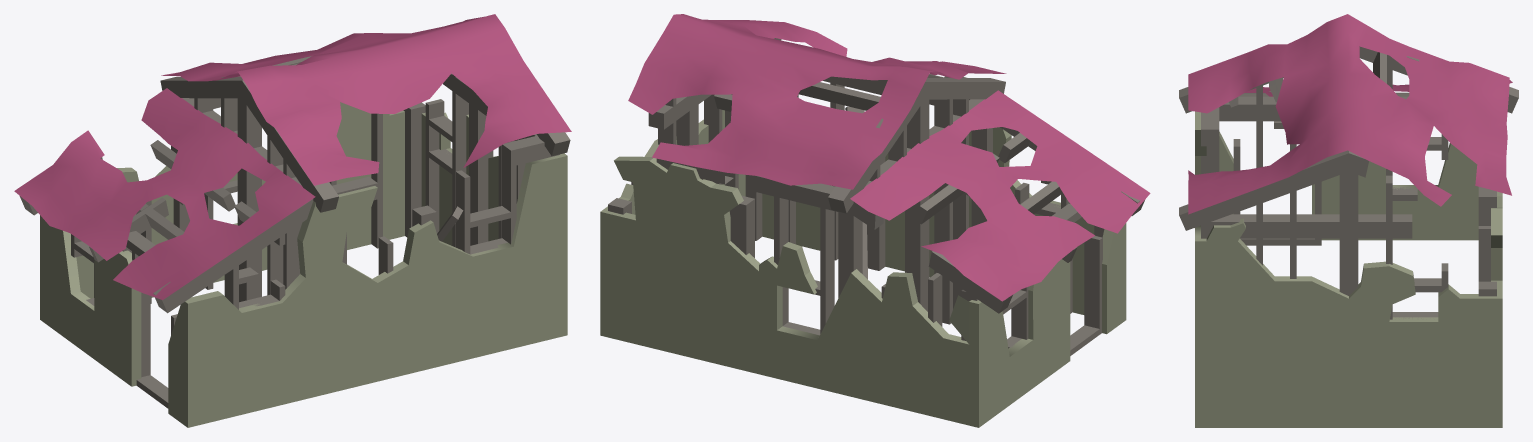
The model's file is house04.fbx.
3 views of the same model, side by side, from view 1: azimuth 30°, elevation 25°; view 2: azimuth 150°, elevation 25°; view 3: azimuth 270°, elevation 25° (orthographic). The views are drawn at different scales.
Visible parts, largest first — view 1: house_wall, house_roof00, house_structure; view 2: house_wall, house_roof00, house_structure; view 3: house_wall, house_roof00, house_structure.
Part boxes in pixels (x1=…): house_wall: x1=40, y1=102, x2=567, y2=427; house_roof00: x1=14, y1=14, x2=571, y2=299; house_structure: x1=19, y1=56, x2=570, y2=408; house_wall: x1=600, y1=110, x2=1126, y2=427; house_roof00: x1=628, y1=14, x2=1150, y2=301; house_structure: x1=608, y1=38, x2=1144, y2=355; house_wall: x1=1195, y1=111, x2=1502, y2=427; house_roof00: x1=1188, y1=14, x2=1512, y2=214; house_structure: x1=1179, y1=46, x2=1518, y2=319.
Size of the model in its own units: 673 by 423 by 459.
